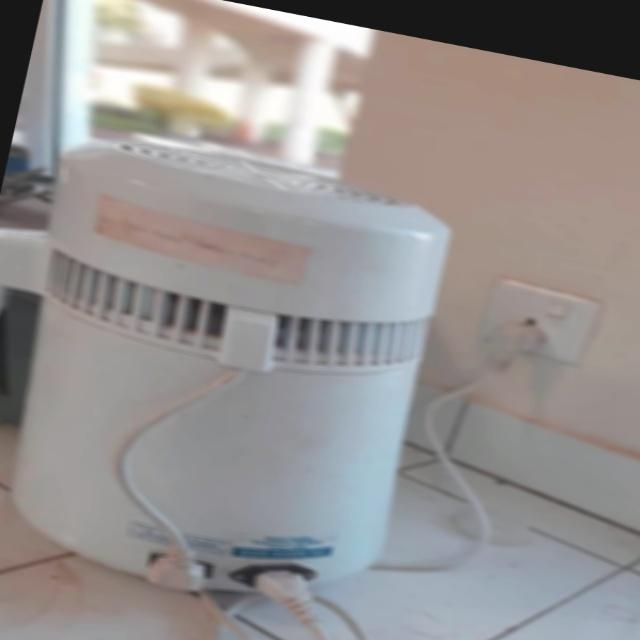Distilled Water Maker: (0, 118, 489, 640)
